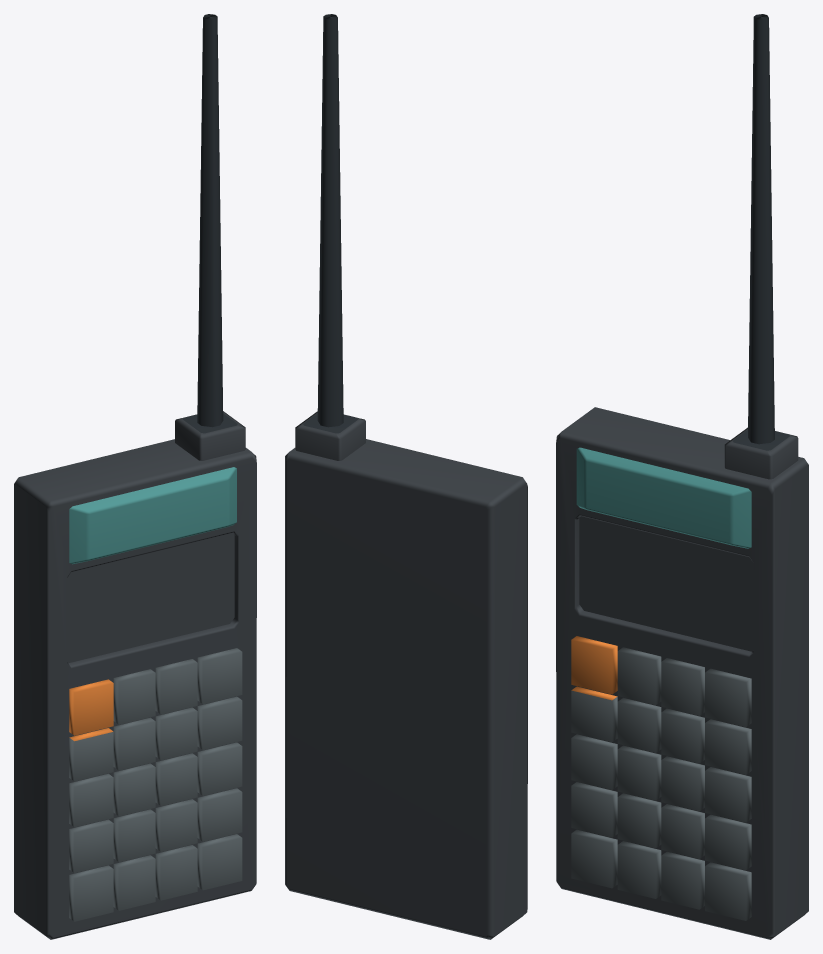
The model's file is sacc-walkie.glb.
3 renders of one model, left to right at view 1: azimuth 30°, elevation 25°; view 2: azimuth 150°, elevation 25°; view 3: azimuth 330°, elevation 25°, orthographic. The views are drawn at different scales.
Parts seen in each view (by area): view 1: SaccWalkieTalkie; view 2: SaccWalkieTalkie; view 3: SaccWalkieTalkie.
Boxes of the visible parts, bbox=[...] form: SaccWalkieTalkie: bbox=[14, 14, 256, 939]; SaccWalkieTalkie: bbox=[285, 14, 527, 939]; SaccWalkieTalkie: bbox=[556, 14, 808, 939].
Bounding box in the file's own units: 0.0759 × 0.3 × 0.0266.
